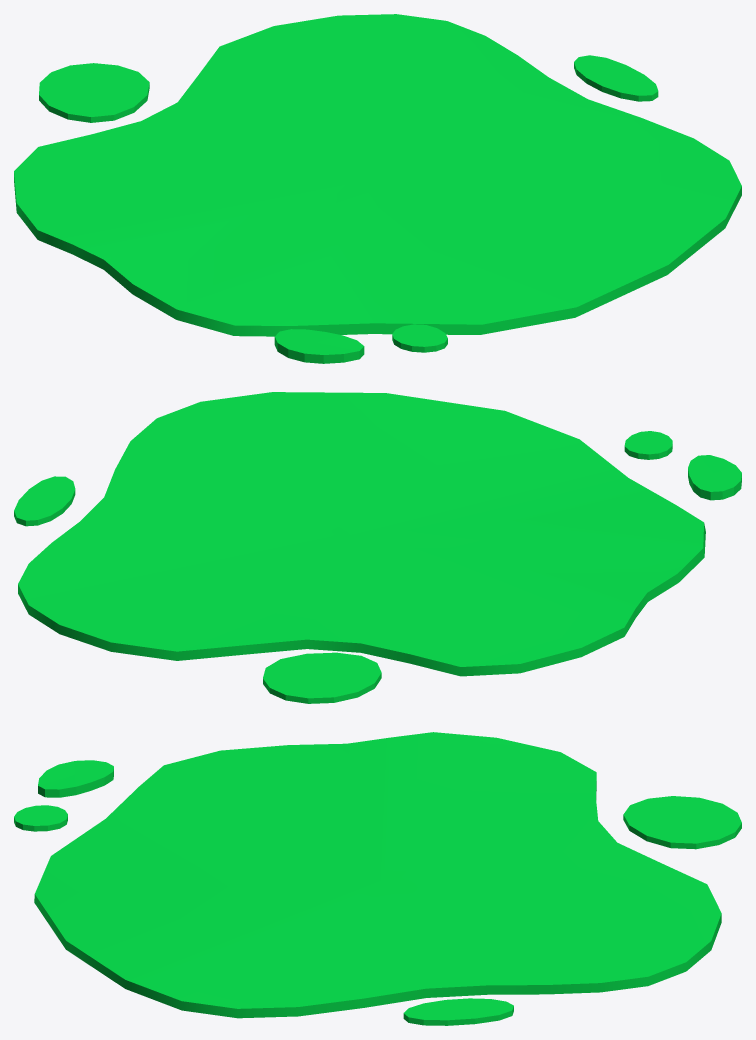
Rendered from heal_potion.gltf.
The picture shows the model from 3 angles, top to bottom: view 1: azimuth 30°, elevation 25°; view 2: azimuth 150°, elevation 25°; view 3: azimuth 270°, elevation 25°; orthographic projection. The views are drawn at different scales.
Visible parts, largest first — view 1: Cube; view 2: Cube; view 3: Cube.
Part boxes in pixels (x1,y1,x2,y2): Cube: [14, 14, 741, 363]; Cube: [14, 392, 741, 703]; Cube: [14, 732, 741, 1025].
Bounding box in the file's own units: 0.5597 × 0.0178 × 0.5976.
